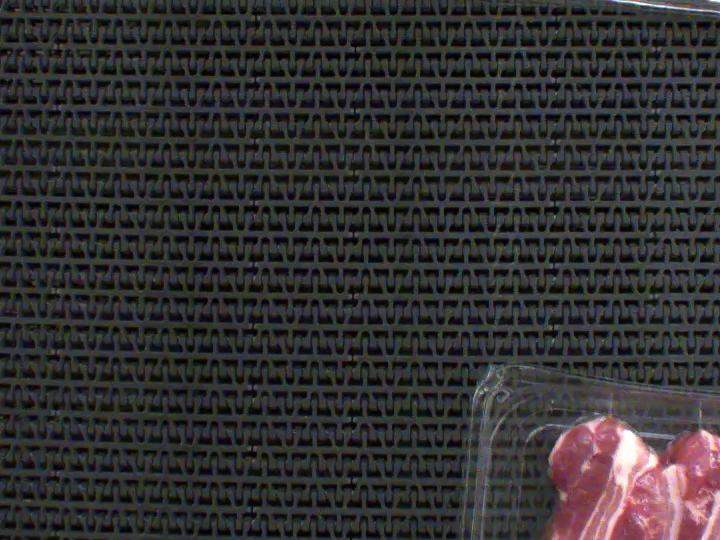packaging-error: (586, 384, 630, 435), (676, 399, 716, 436)
